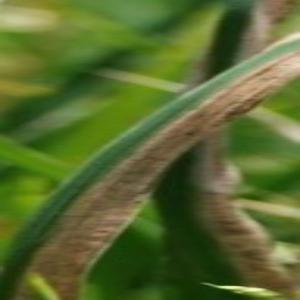2 BacterialBlight: (14, 125, 170, 298)
